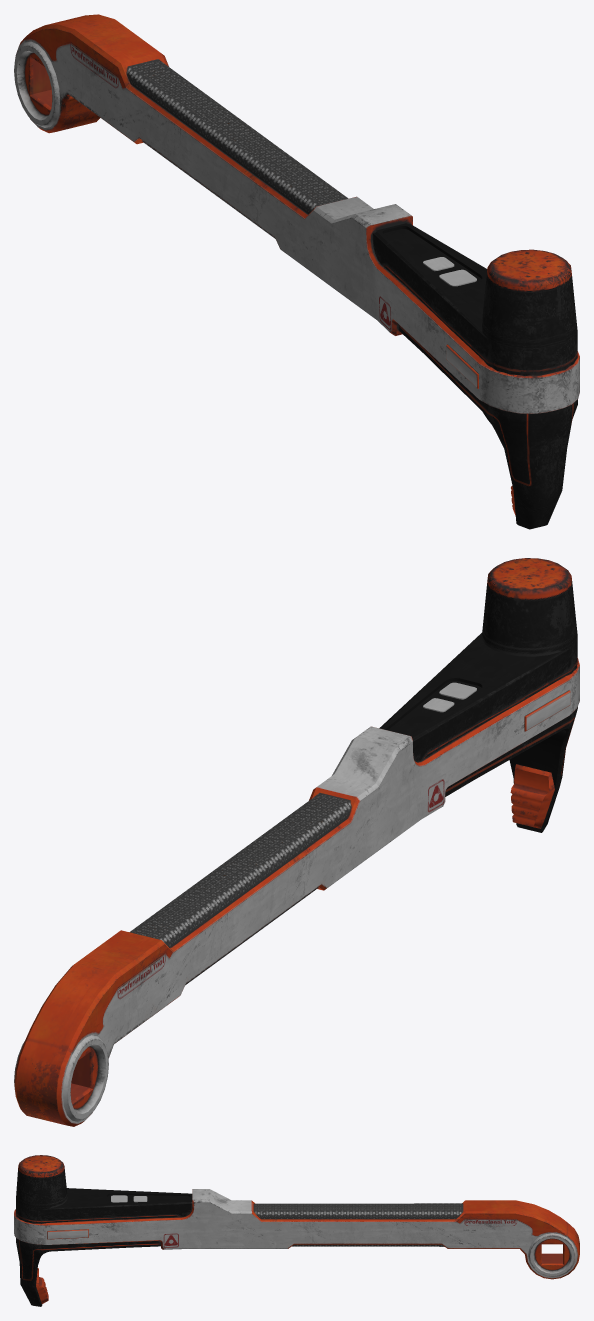
File: Hammer_SciFi_Tool_BS.fbx
The picture shows the model from 3 angles, top to bottom: view 1: azimuth 30°, elevation 25°; view 2: azimuth 150°, elevation 25°; view 3: azimuth 270°, elevation 25°; orthographic projection. The views are drawn at different scales.
Visible parts, largest first — view 1: Hammer_SciFi_Tool_BS; view 2: Hammer_SciFi_Tool_BS; view 3: Hammer_SciFi_Tool_BS.
Boxes of the visible parts, left/top/right/bottom form: Hammer_SciFi_Tool_BS: left=14, top=14, right=579, bottom=529; Hammer_SciFi_Tool_BS: left=14, top=558, right=579, bottom=1126; Hammer_SciFi_Tool_BS: left=14, top=1155, right=579, bottom=1306.
Size of the model in its own units: 6.27 by 16.42 by 60.18.
1 material, 1 textured.
